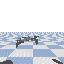drone: (15, 36, 39, 48)
